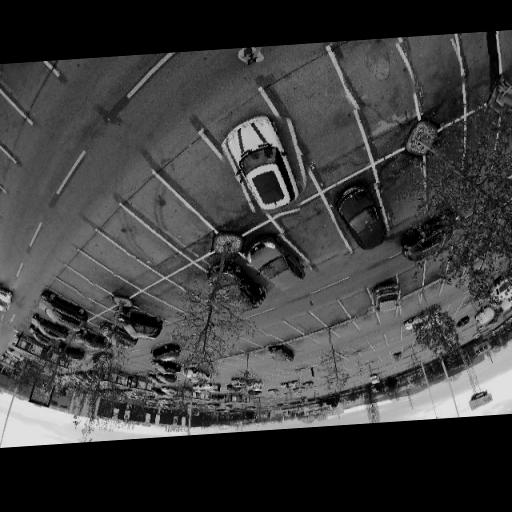busy: (216, 107, 316, 220), (334, 181, 394, 255), (246, 230, 311, 295), (208, 262, 266, 311), (116, 303, 164, 342), (38, 293, 86, 331), (369, 278, 405, 318), (28, 316, 70, 343), (100, 322, 138, 350), (74, 329, 112, 355), (152, 341, 184, 363), (266, 343, 296, 364), (62, 342, 87, 363), (466, 389, 492, 409), (0, 282, 16, 314), (152, 358, 182, 374), (186, 366, 214, 383), (473, 305, 497, 321), (228, 377, 247, 389), (246, 378, 264, 390), (283, 381, 299, 390), (302, 380, 314, 389), (392, 352, 404, 361)
free: (342, 43, 415, 109), (295, 95, 355, 155), (412, 39, 463, 95), (384, 162, 426, 219), (192, 174, 243, 215), (460, 33, 503, 75), (156, 203, 200, 234), (296, 218, 338, 250), (126, 233, 167, 260), (185, 272, 215, 294), (108, 255, 138, 276), (398, 294, 422, 318), (72, 276, 94, 299), (162, 286, 188, 305), (345, 294, 370, 312), (400, 271, 422, 290), (90, 268, 114, 284), (147, 302, 168, 317), (248, 331, 270, 344), (357, 314, 376, 328), (320, 308, 342, 320), (271, 325, 292, 337), (296, 317, 317, 329), (248, 352, 266, 365), (73, 293, 90, 306), (315, 331, 333, 343), (296, 338, 314, 349), (232, 337, 248, 349), (336, 325, 354, 335), (372, 339, 386, 349), (386, 333, 400, 343), (355, 341, 368, 351), (342, 346, 356, 355), (387, 331, 400, 340), (309, 356, 323, 364)
